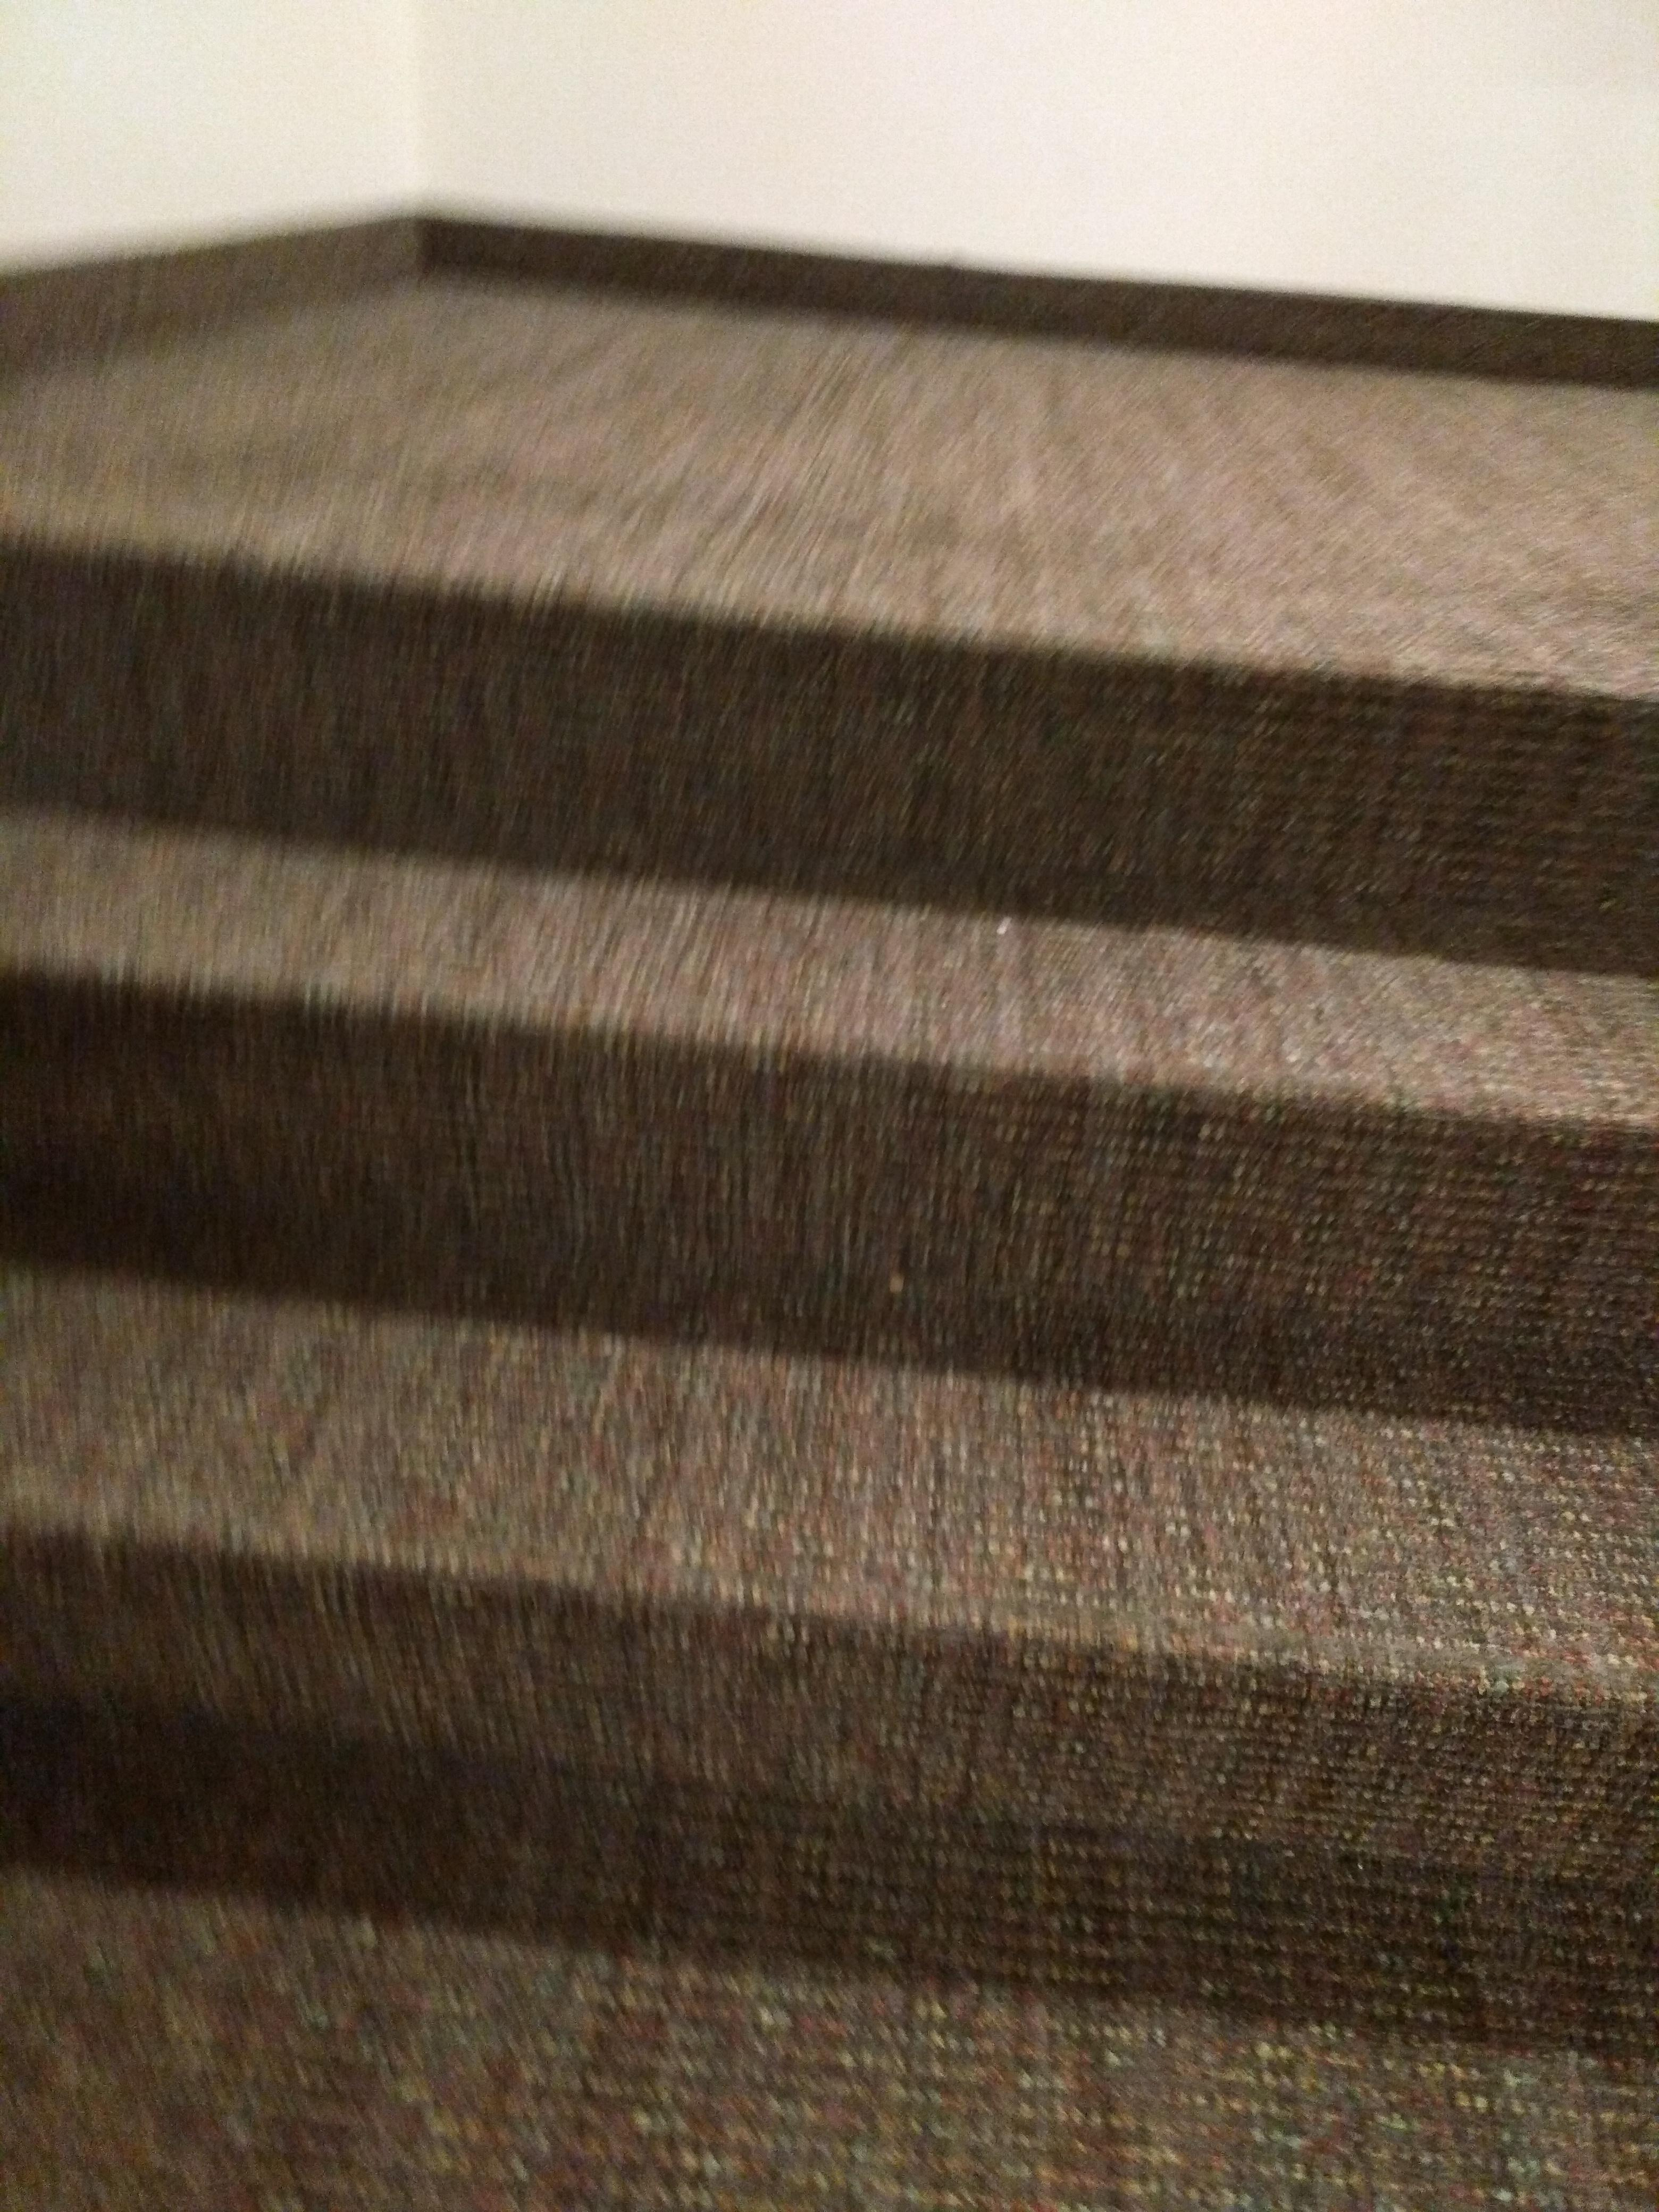stairs_up: (9, 488, 1659, 2125)
